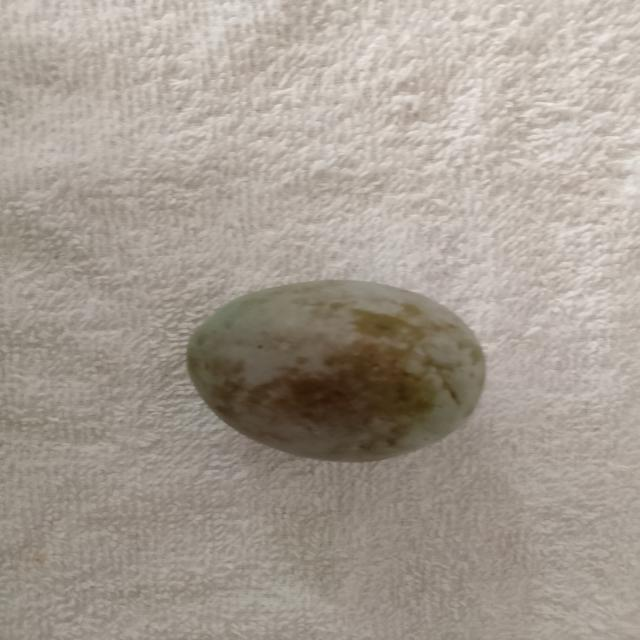mango: (188, 268, 492, 464)
